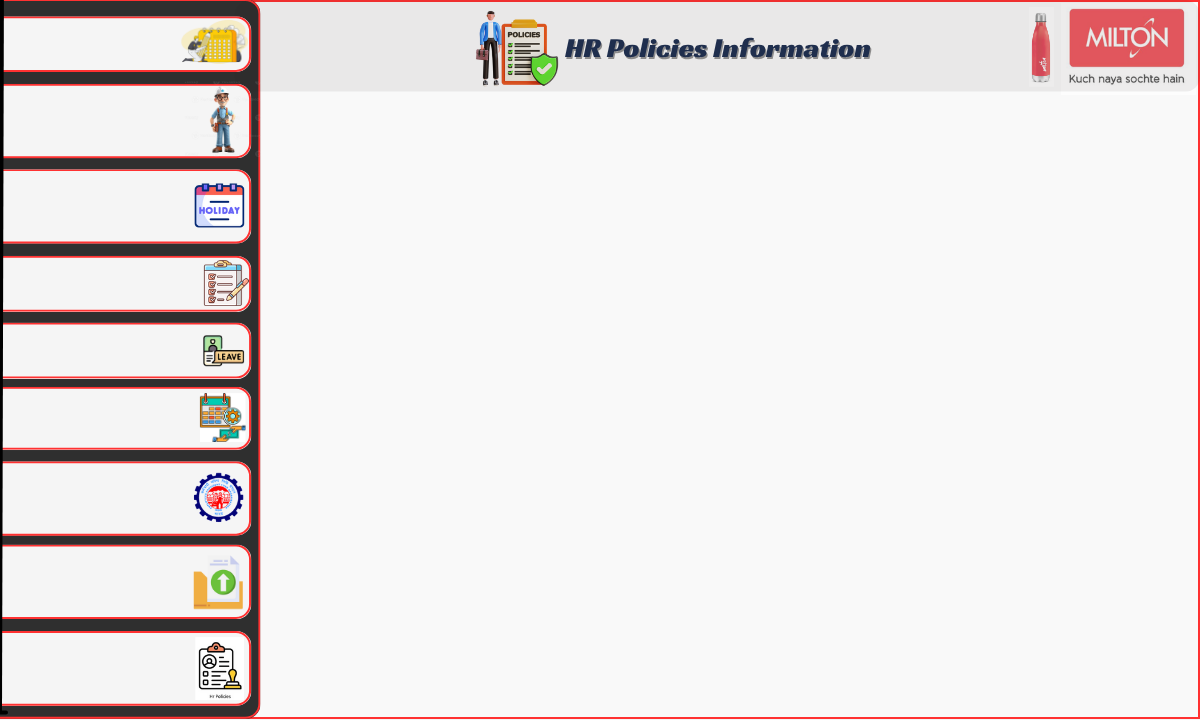

The dashboard page shown, as its layout file describes it:
{"tool":"powerbi","page":{"name":"HR Essentials & Policies","canvas":[1280,720],"ordinal":16},"visuals":[{"type":"actionButton","title":"HR Quick Overview","box":[12,24,181.8,40.6],"z":0},{"type":"actionButton","title":"HR Quick Overview","box":[12,91.6,216.3,60.1],"z":1000},{"type":"actionButton","title":"HR Quick Overview","box":[12,178.8,216.3,60.1],"z":2000},{"type":"actionButton","title":"HR Quick Overview","box":[12,253.9,216.3,60.1],"z":3000},{"type":"actionButton","title":"HR Quick Overview","box":[12,320,216.3,60.1],"z":4000},{"type":"actionButton","title":"HR Quick Overview","box":[12,392.1,216.3,60.1],"z":5000},{"type":"actionButton","title":"HR Quick Overview","box":[12,468.7,216.3,60.1],"z":6000},{"type":"actionButton","title":"HR Quick Overview","box":[12,551.4,216.3,60.1],"z":7000},{"type":"actionButton","title":"HR Quick Overview","box":[12,640,216.3,60.1],"z":8000},{"type":"shape","box":[279.9,92.3,999.8,627.6],"z":9000},{"type":"textbox","title":"📋 HR Essentials & Policies","box":[285.7,109.6,988.3,595.9],"z":12000}]}

Visuals, with their boxes on the page's 1280x720 design canvas (x1, y1, x2, y2). These are canvas units, not pixel positions in the 1200x720 screenshot, which may show the page scaled, cropped or inside an application window:
"HR Quick Overview" actionButton: locate(12, 24, 194, 65)
"HR Quick Overview" actionButton: locate(12, 92, 228, 152)
"HR Quick Overview" actionButton: locate(12, 179, 228, 239)
"HR Quick Overview" actionButton: locate(12, 254, 228, 314)
"HR Quick Overview" actionButton: locate(12, 320, 228, 380)
"HR Quick Overview" actionButton: locate(12, 392, 228, 452)
"HR Quick Overview" actionButton: locate(12, 469, 228, 529)
"HR Quick Overview" actionButton: locate(12, 551, 228, 612)
"HR Quick Overview" actionButton: locate(12, 640, 228, 700)
shape: locate(280, 92, 1280, 720)
"📋 HR Essentials & Policies" textbox: locate(286, 110, 1274, 706)
